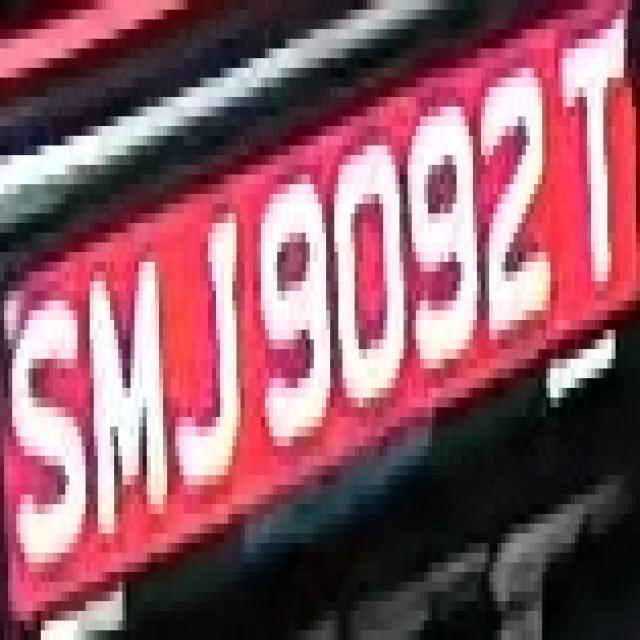0: (326, 116, 408, 446)
2: (469, 39, 558, 339)
9: (253, 165, 338, 465), (400, 87, 481, 398)
J: (171, 194, 245, 514)
M: (81, 223, 176, 553)
S: (4, 272, 98, 592)
T: (554, 0, 632, 320)
